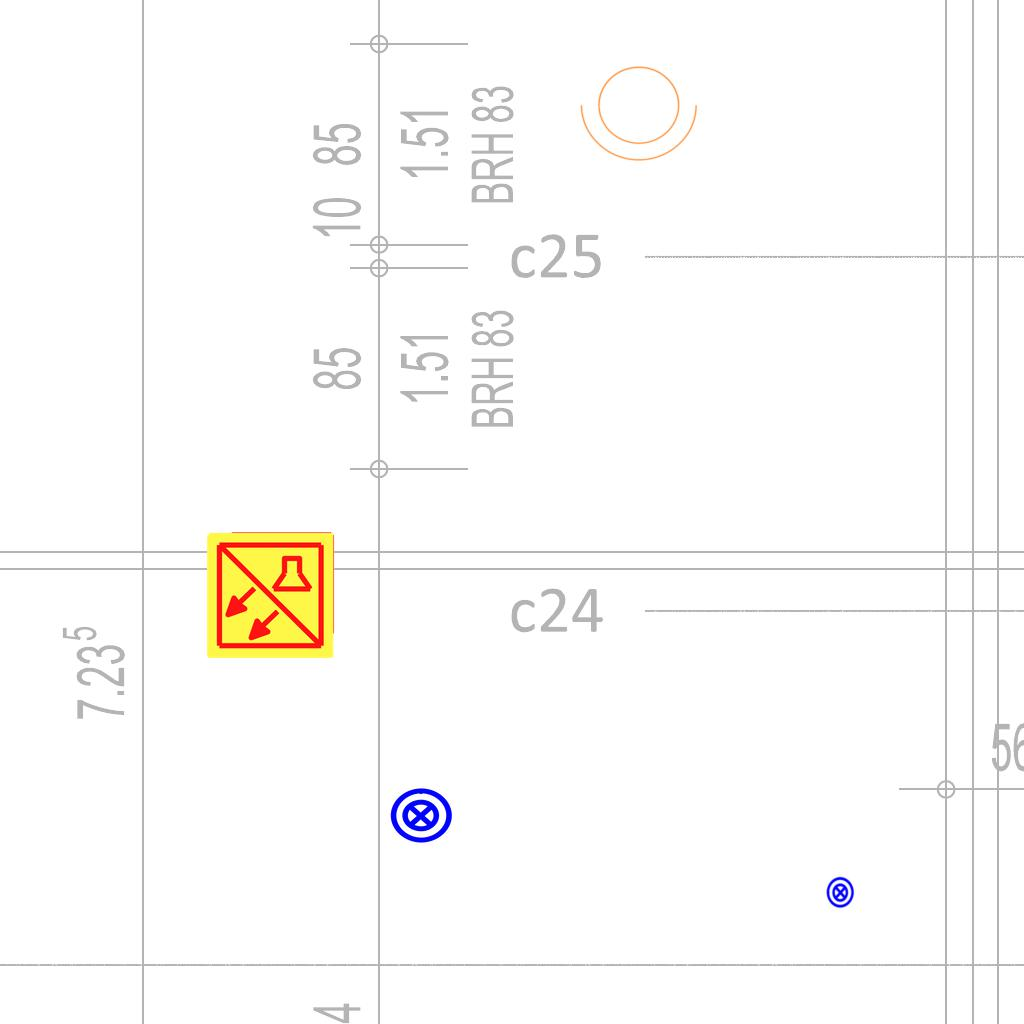OKW_Multisensormelder_(Kombination_optischer_Rauch-Kahlenmonoxid_Waerme-Melder): (204, 529, 336, 661)
Scheinwerfer_fuer_Alarmbeleuchtung: (576, 54, 708, 166)
Taster_beleuchtet: (388, 783, 454, 849), (824, 876, 857, 909)
